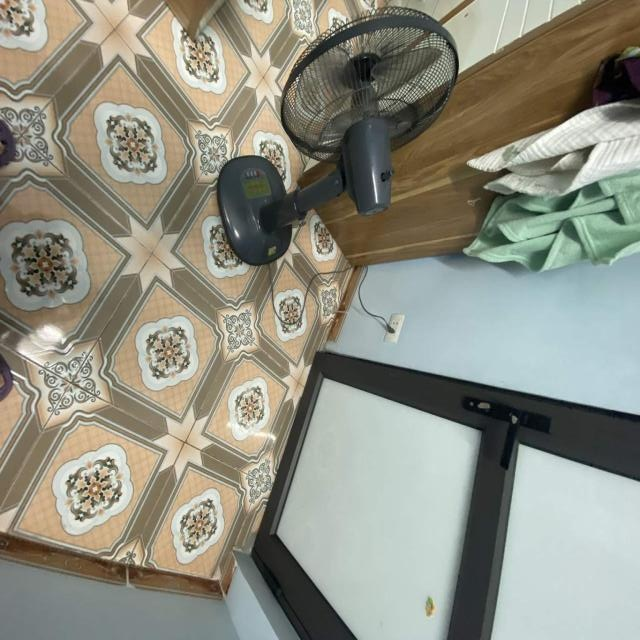outlet: (384, 313, 405, 344)
